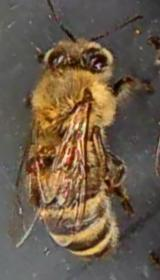varroa_mite: (23, 150, 48, 178)
